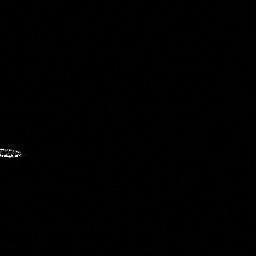ship: (1, 141, 29, 168)
